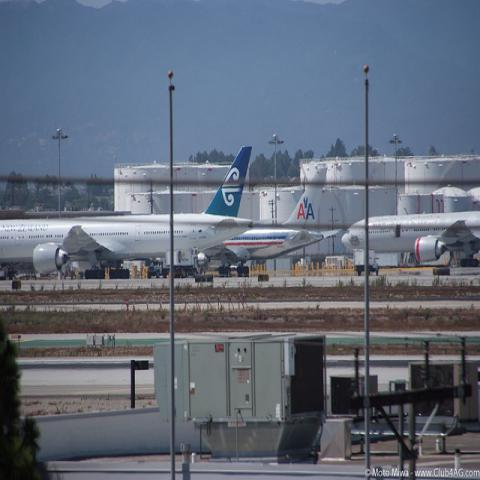truck: (166, 248, 199, 278), (353, 248, 380, 277), (147, 260, 170, 278)
